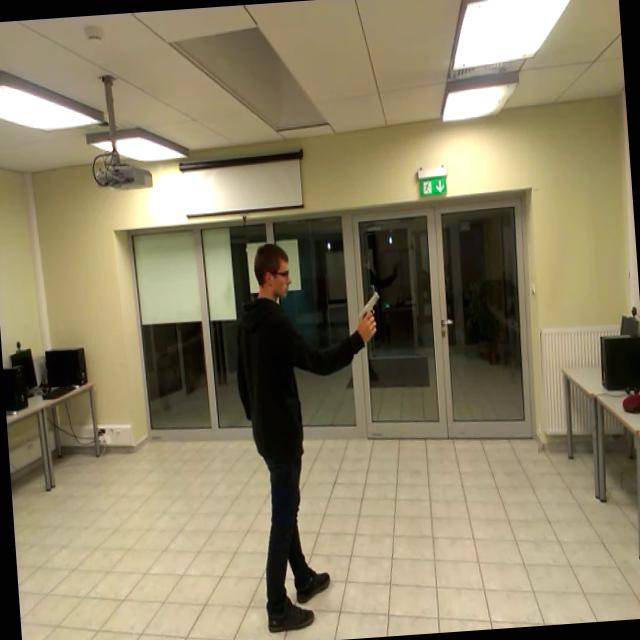handgun: (355, 283, 382, 336)
